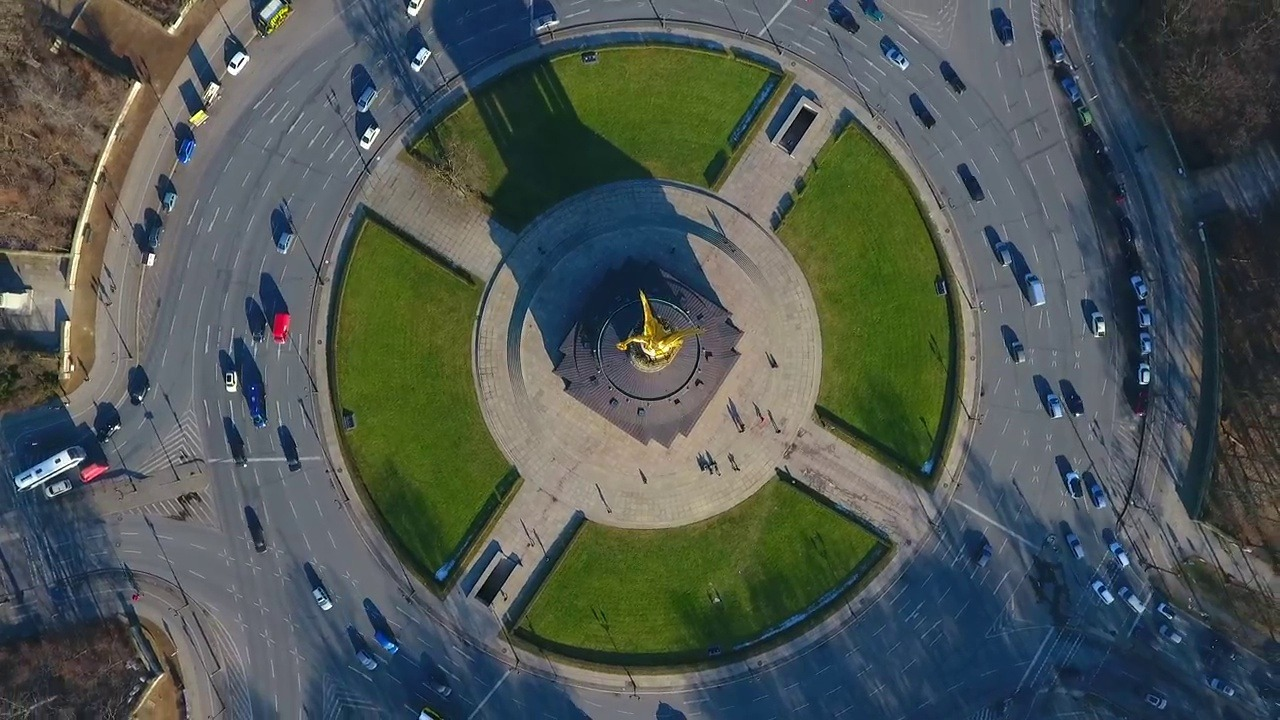bus: (10, 439, 87, 493)
car: (356, 117, 385, 154), (1127, 266, 1153, 307), (1061, 528, 1090, 564), (39, 475, 77, 502), (882, 41, 914, 73), (353, 80, 381, 116), (1107, 536, 1135, 572), (310, 580, 337, 617), (406, 44, 436, 76), (1088, 303, 1110, 345), (1089, 576, 1118, 607), (225, 45, 251, 79), (1157, 622, 1188, 650), (993, 234, 1014, 275), (1089, 477, 1112, 513), (1047, 389, 1069, 425), (1134, 328, 1156, 360), (1134, 298, 1153, 334), (1136, 353, 1154, 391), (1010, 337, 1031, 368)
van: (1020, 269, 1049, 313), (269, 303, 294, 351), (1115, 583, 1146, 614)
